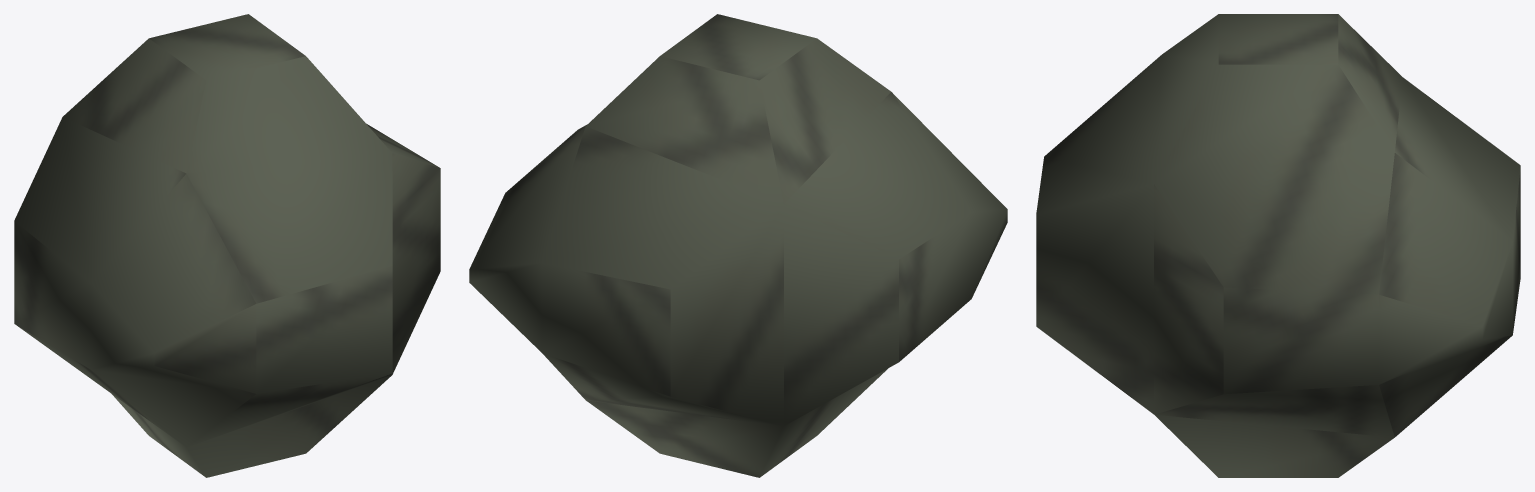
The model's file is Phase 1 Bamboo 4.fbx.
3 renders of one model, left to right at view 1: azimuth 30°, elevation 25°; view 2: azimuth 150°, elevation 25°; view 3: azimuth 270°, elevation 25°, orthographic. The views are drawn at different scales.
Visible parts, largest first — view 1: Phase 1 Bamboo 4; view 2: Phase 1 Bamboo 4; view 3: Phase 1 Bamboo 4.
Part boxes in pixels (left/top/right/bottom): Phase 1 Bamboo 4: left=14, top=14, right=440, bottom=477; Phase 1 Bamboo 4: left=469, top=14, right=1007, bottom=477; Phase 1 Bamboo 4: left=1036, top=14, right=1520, bottom=477.
Bounding box in the file's own units: 27.31 × 27.74 × 29.48.
